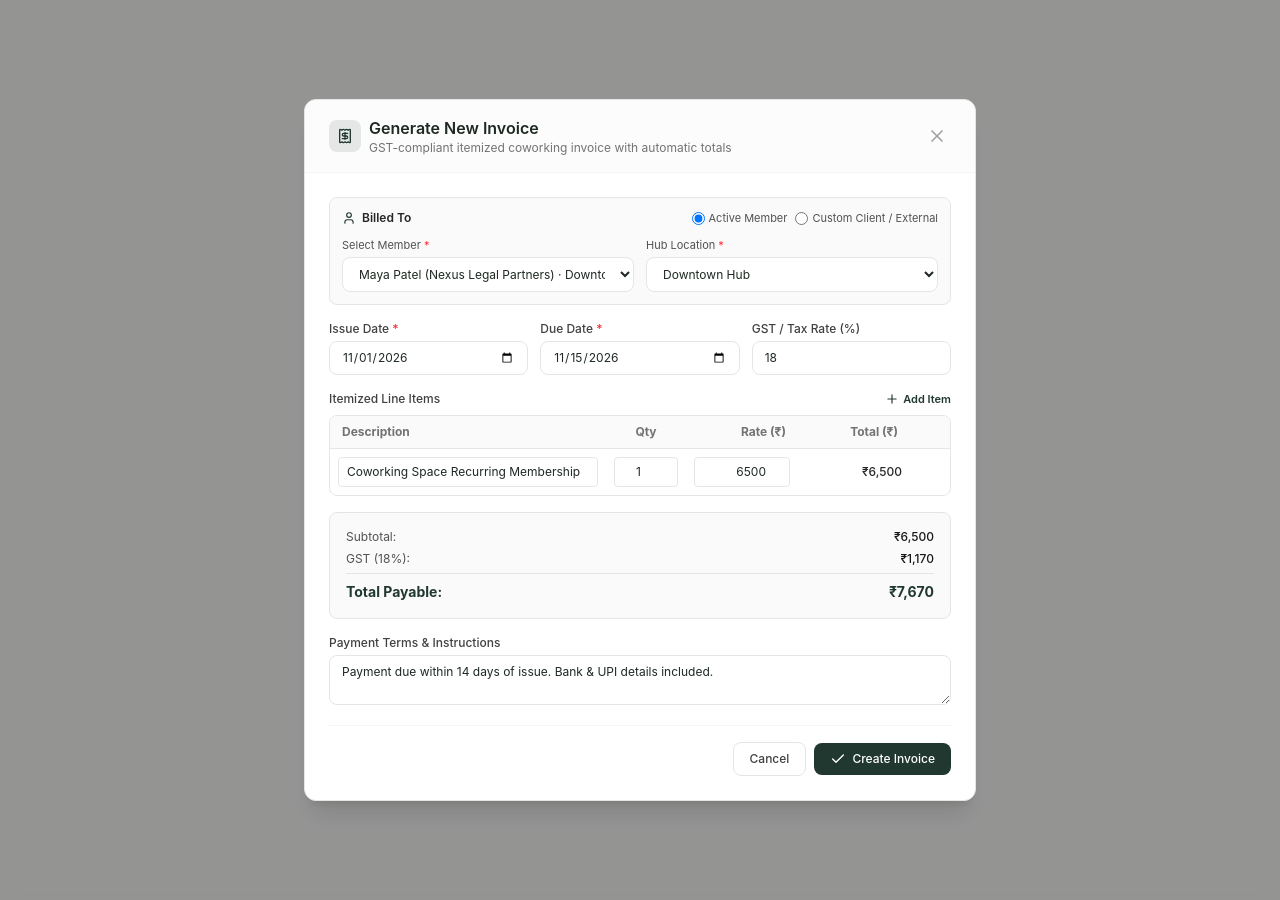
Test: InvoiceModal Component › calculates subtotal, 18% GST tax, and total amount when line items change
expect the text "₹7,670" is shown: met, box x1=889 y1=582 x2=934 y2=602
Replace the text in the 3rd number field showing "6500" with "10000" at (742, 472), box x1=694 y1=457 x2=790 y2=487
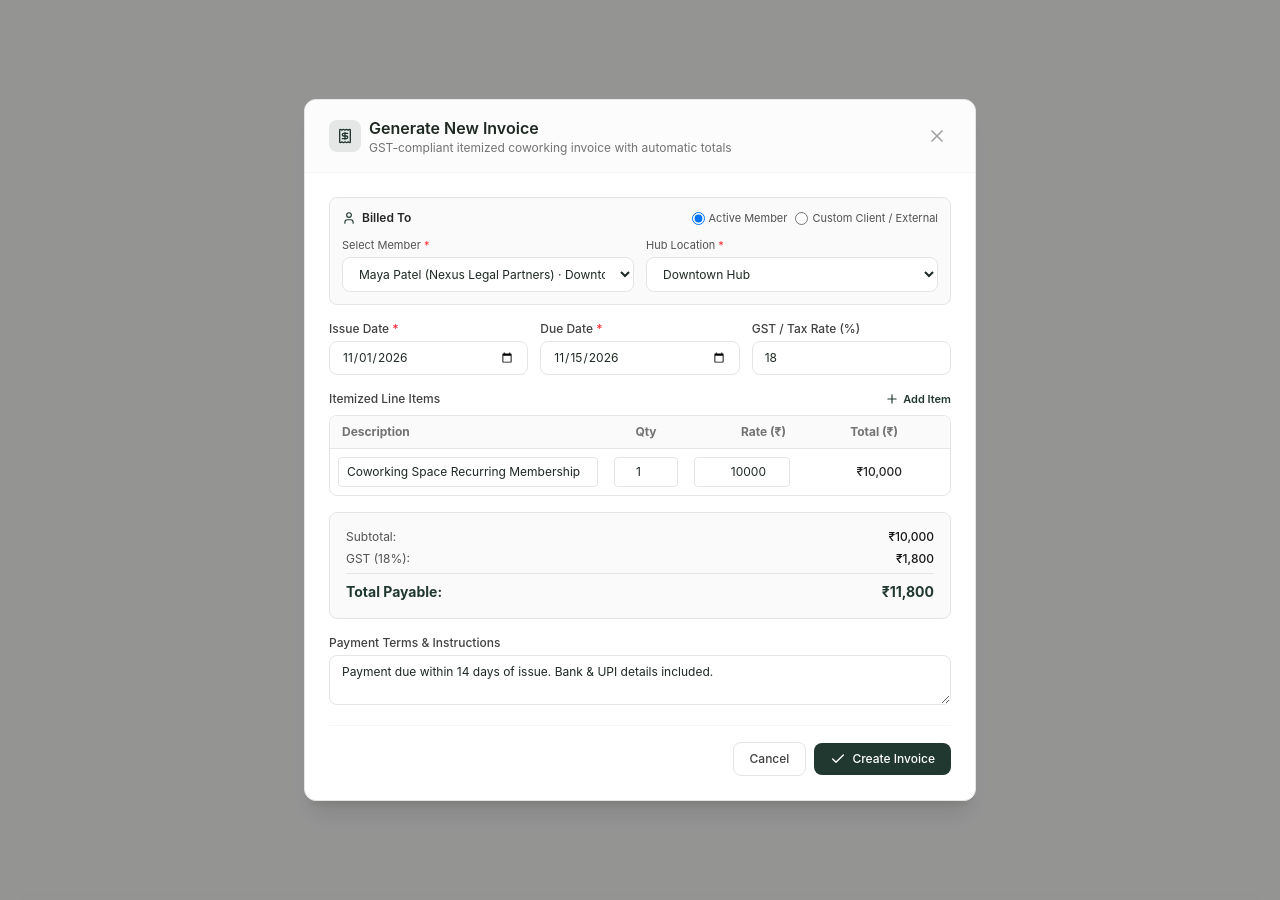
expect the text "₹11,800" is shown: met, box x1=882 y1=582 x2=934 y2=602
